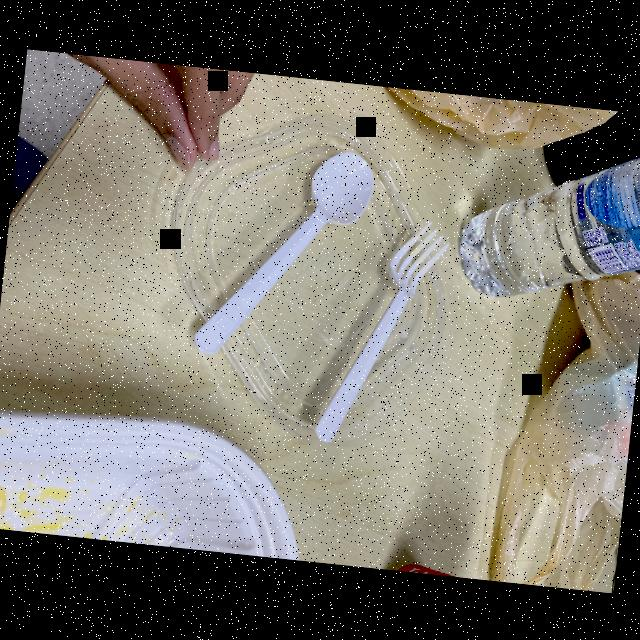plastic_spoon: (190, 130, 380, 376), (297, 205, 455, 459)
